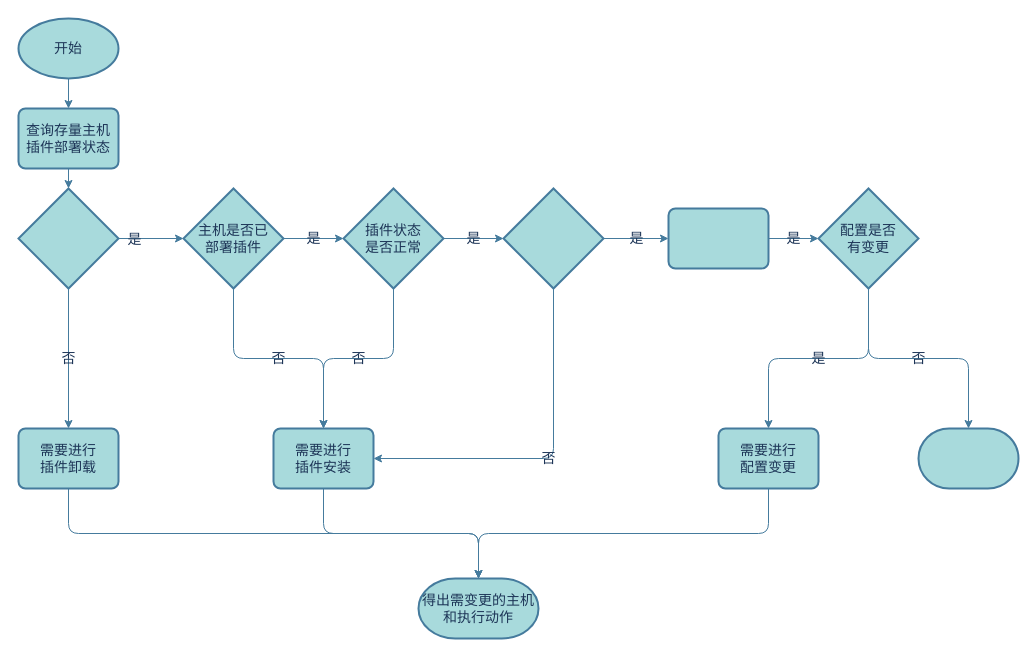
This 1036x656 diagram has some shape labels left out. Each missing label, with the centre of its shape:
主机是否在 声明范围内: pixel 68 238
插件版本是否 与声明一致: pixel 553 238
无需任何变更: pixel 968 458
渲染插件 配置文件: pixel 718 238
